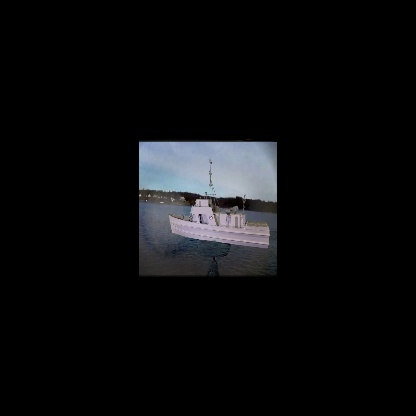YP689: (170, 158, 270, 250)
